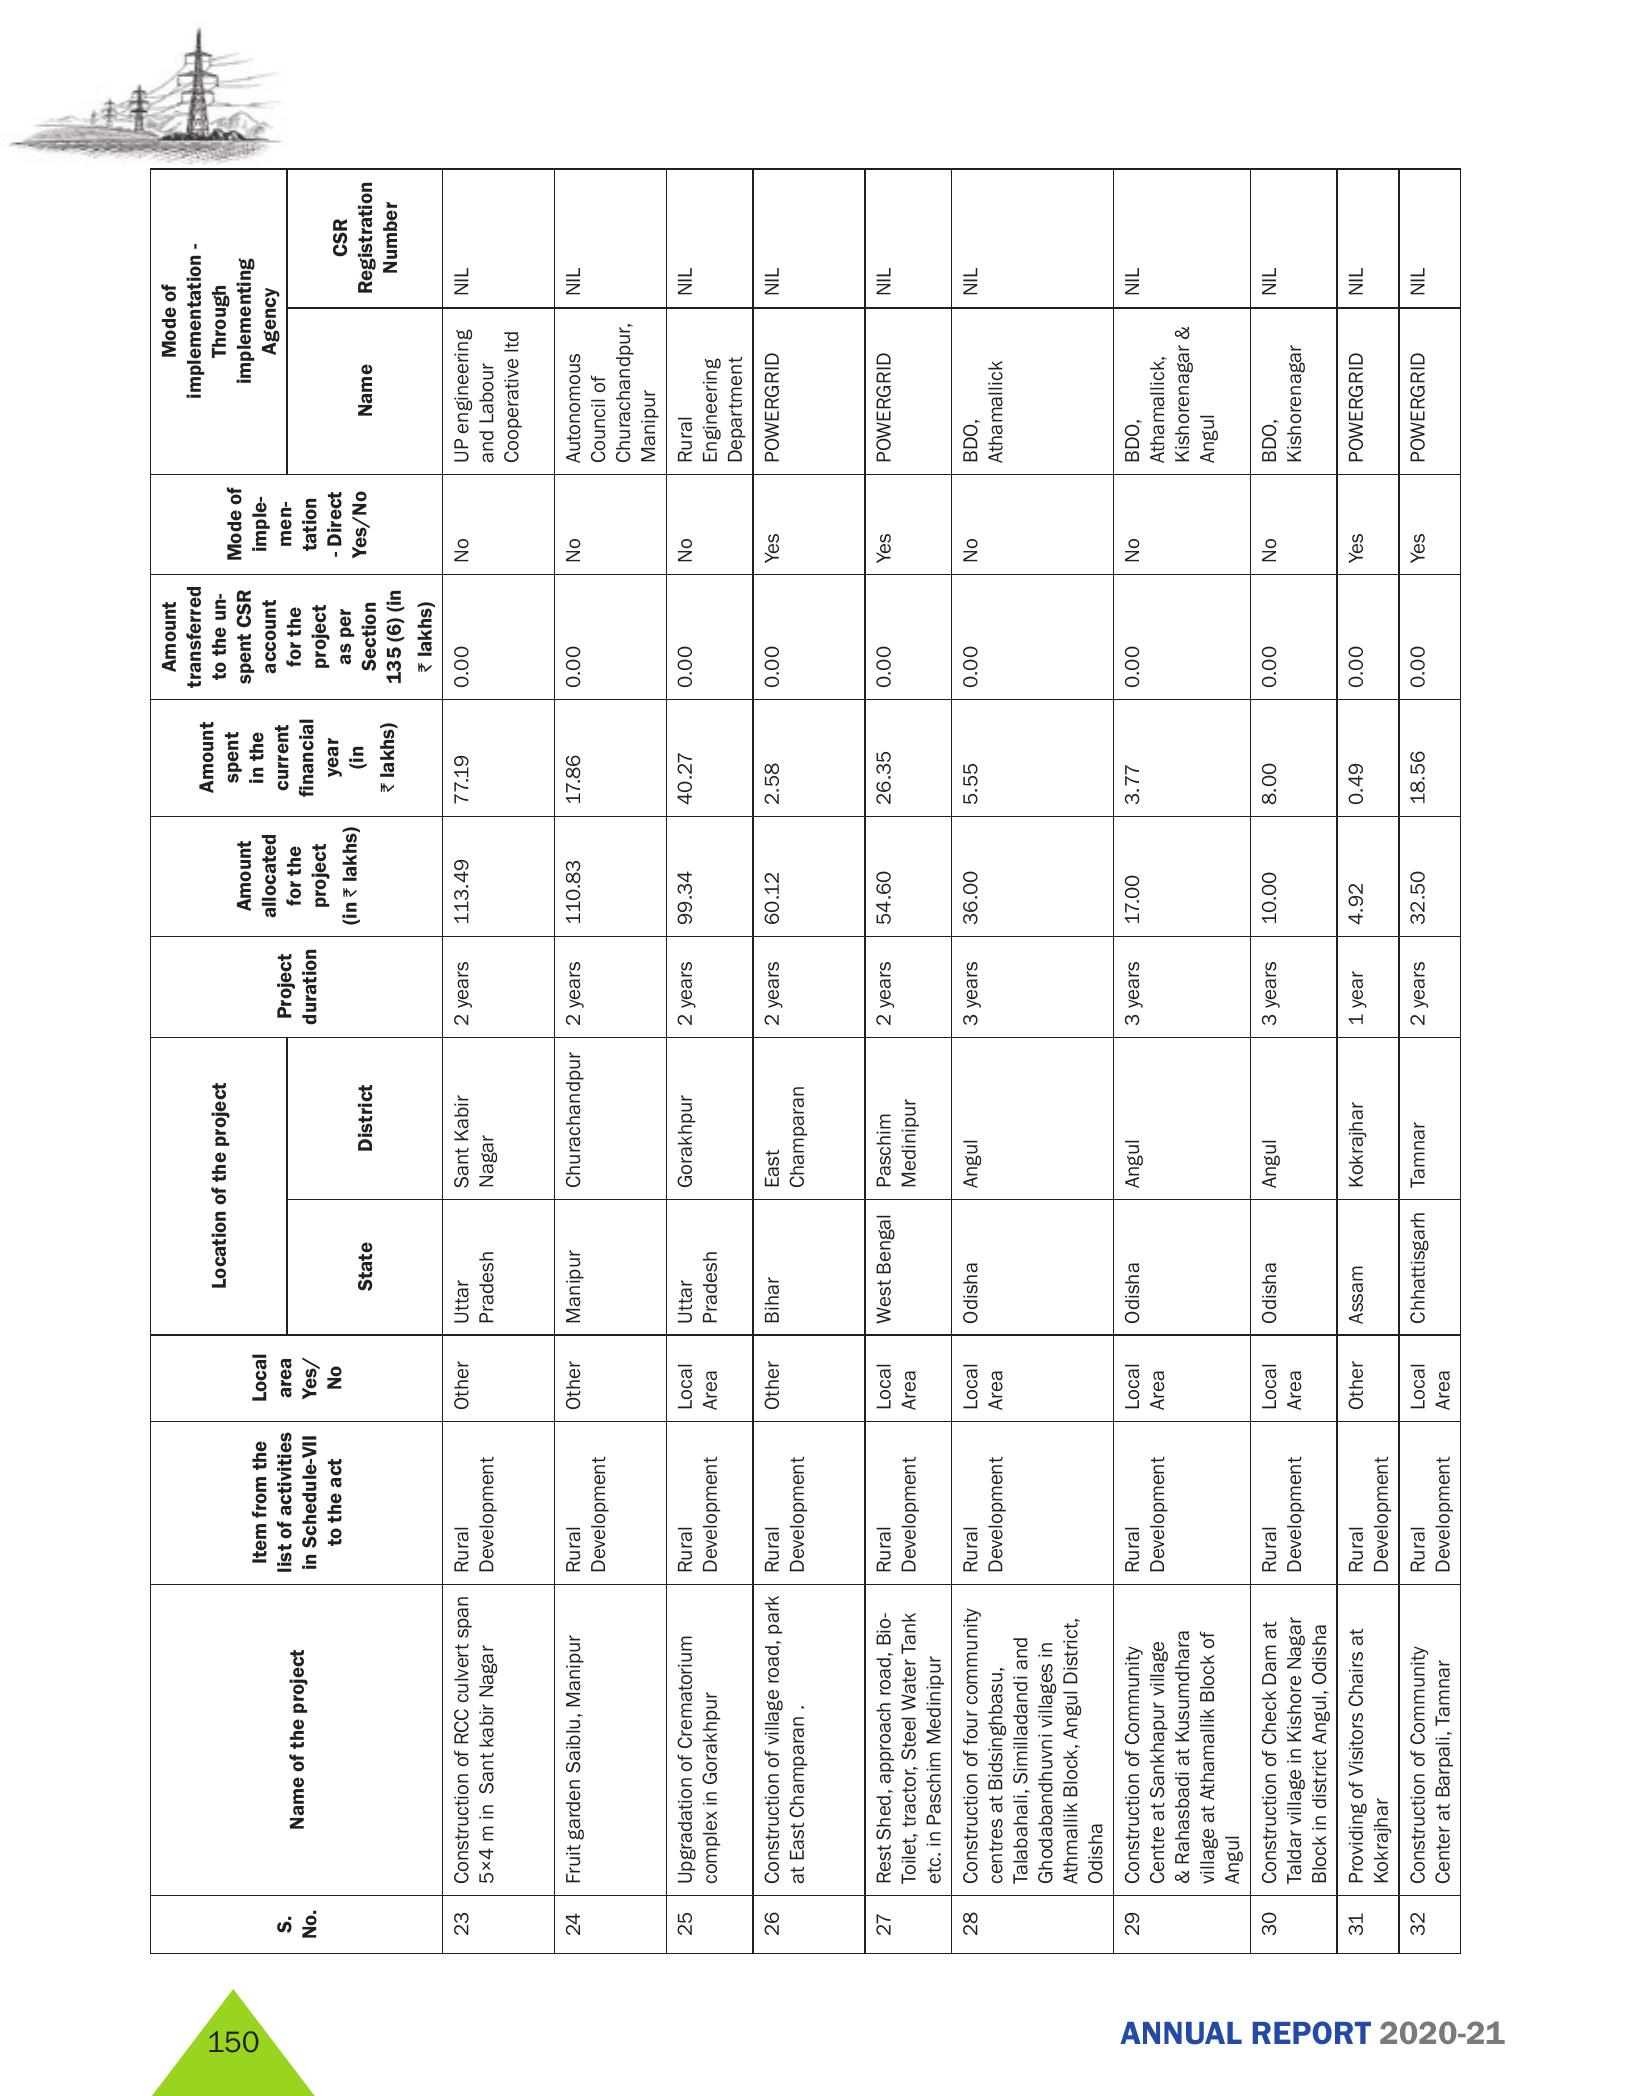Footer: (0, 1985, 1650, 2096)
Header: (0, 0, 1650, 172)
Table: (126, 168, 1475, 1968)
